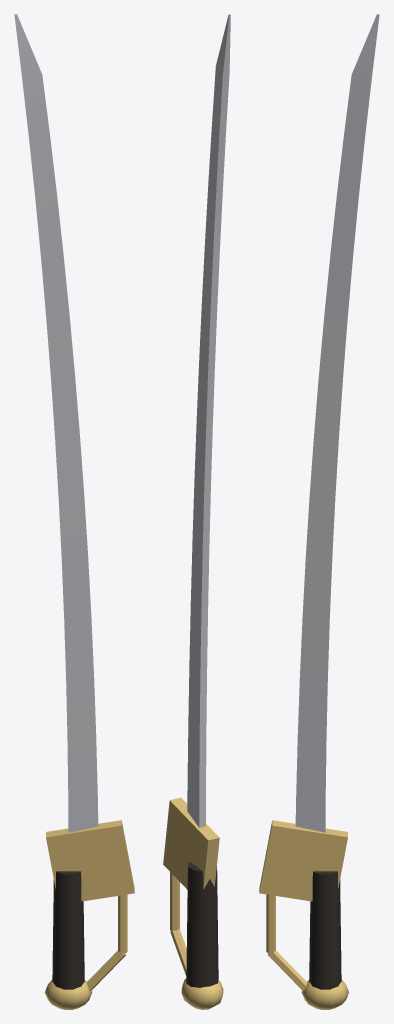
File: SM_Saber.glb
The picture shows the model from 3 angles, left to right: view 1: azimuth 90°, elevation 25°; view 2: azimuth 210°, elevation 25°; view 3: azimuth 270°, elevation 25°; orthographic projection.
Parts seen in each view (by area): view 1: SM_Saber; view 2: SM_Saber; view 3: SM_Saber.
Part boxes in pixels (left/top/right/bottom): SM_Saber: left=14, top=14, right=134, bottom=1009; SM_Saber: left=163, top=14, right=230, bottom=1009; SM_Saber: left=259, top=14, right=379, bottom=1009.
Size of the model in its own units: 3.61 by 101 by 11.09.
